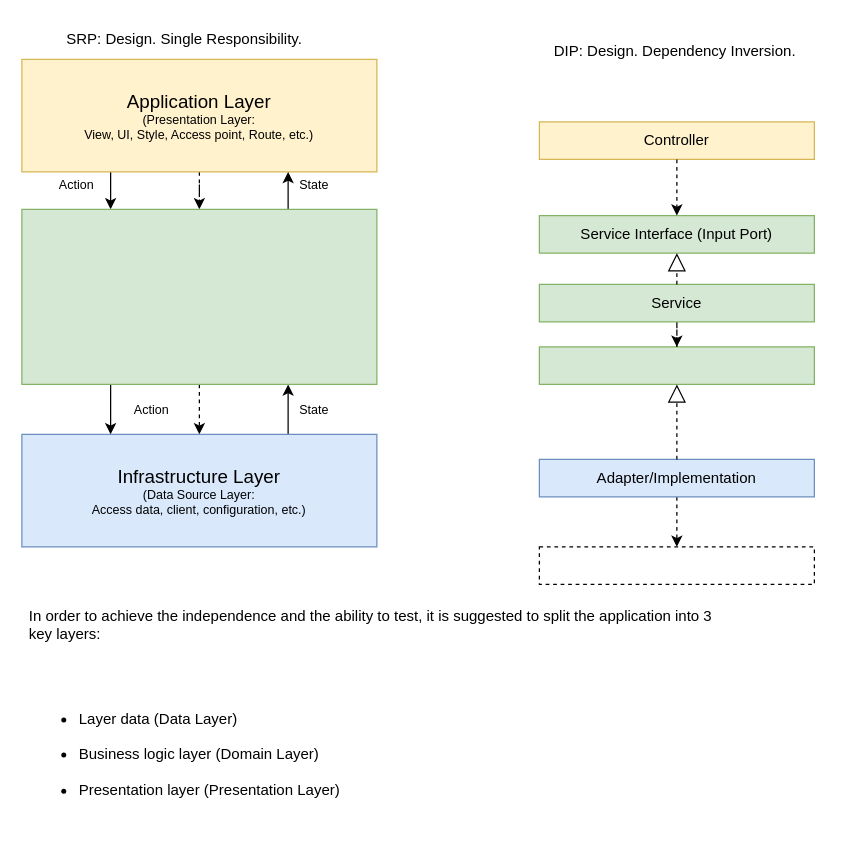
Image size: 849x855. Some labels were removed from this diagram. Each missing label, with the box of its shape:
Domain Layer (Domain Layer: Logic, State, Model, etc.): (21, 208, 377, 384)
Resource: (538, 546, 814, 584)
Resource Interface (Output Port): (538, 346, 814, 384)
